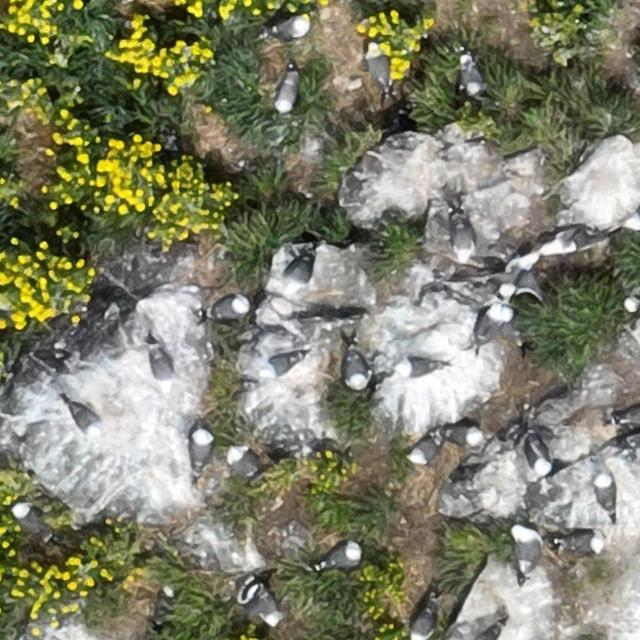umineko: (480, 249, 535, 299), (282, 240, 320, 304), (360, 42, 397, 94), (446, 207, 478, 266), (475, 299, 515, 346), (544, 227, 606, 256), (442, 419, 488, 451), (152, 342, 178, 393), (224, 448, 261, 478), (392, 356, 442, 378), (69, 400, 101, 433), (270, 16, 310, 38), (324, 543, 360, 567), (516, 531, 536, 571), (411, 607, 435, 639), (462, 56, 482, 94), (212, 297, 248, 318), (409, 438, 437, 464), (13, 505, 41, 531), (192, 430, 212, 465), (347, 354, 367, 389), (276, 76, 295, 112), (531, 442, 552, 473), (263, 354, 295, 374), (564, 535, 599, 553), (594, 475, 612, 508), (619, 406, 640, 423), (624, 296, 640, 312)
